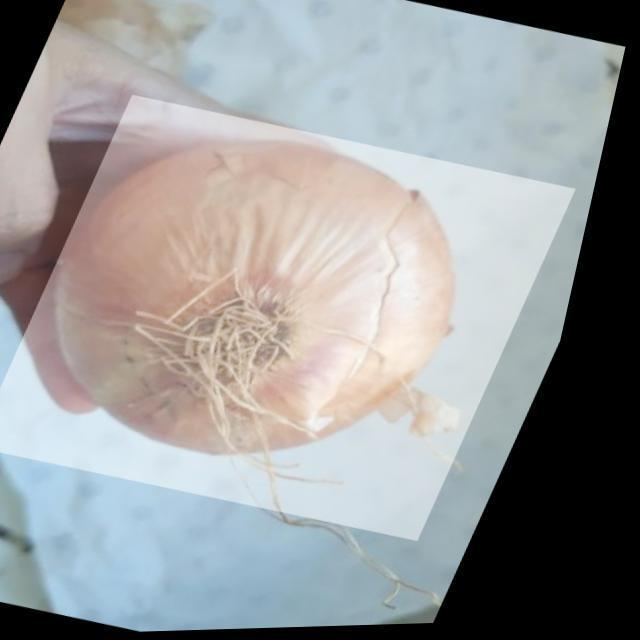Onion: (0, 84, 604, 556)
